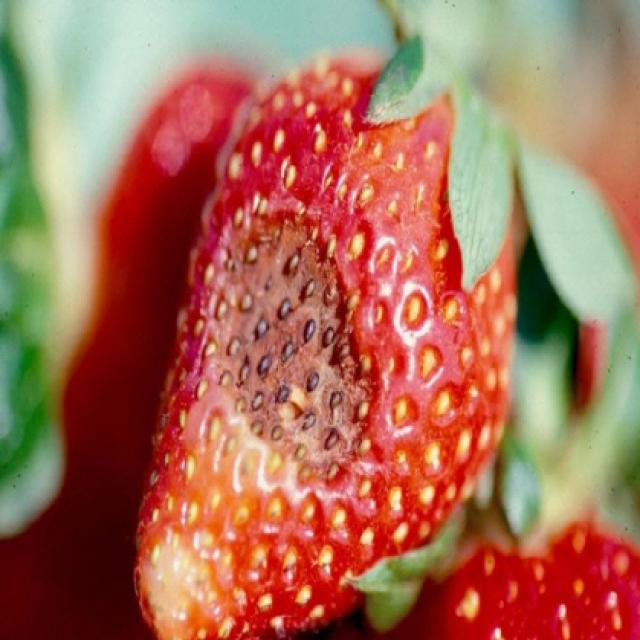Anthracnose Fruit Rot: (194, 210, 392, 492)
